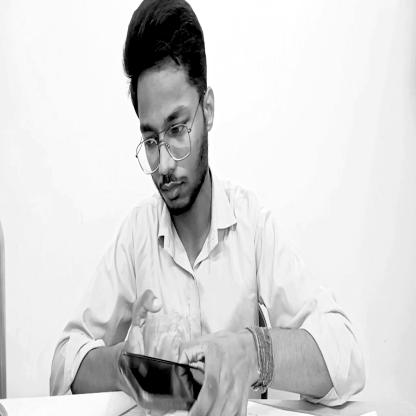Distracted: (122, 0, 213, 225)
